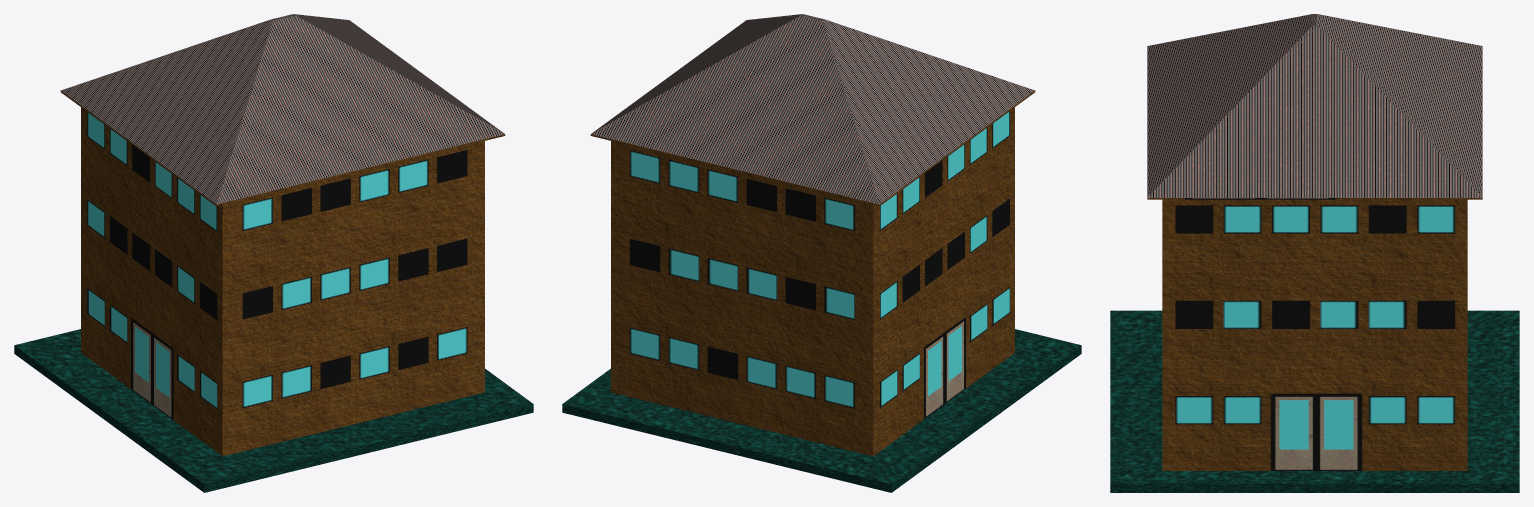
The model's file is Dwelling_Grade_2_Tile_8x8.fbx.
3 renders of one model, left to right at view 1: azimuth 30°, elevation 25°; view 2: azimuth 150°, elevation 25°; view 3: azimuth 270°, elevation 25°, orthographic. The views are drawn at different scales.
Parts seen in each view (by area): view 1: Cube; view 2: Cube; view 3: Cube.
Part boxes in pixels (x1,y1,x2,y2): Cube: [14, 14, 533, 492]; Cube: [562, 14, 1081, 492]; Cube: [1110, 14, 1519, 492].
Bounding box in the file's own units: 200 × 211 × 200.
